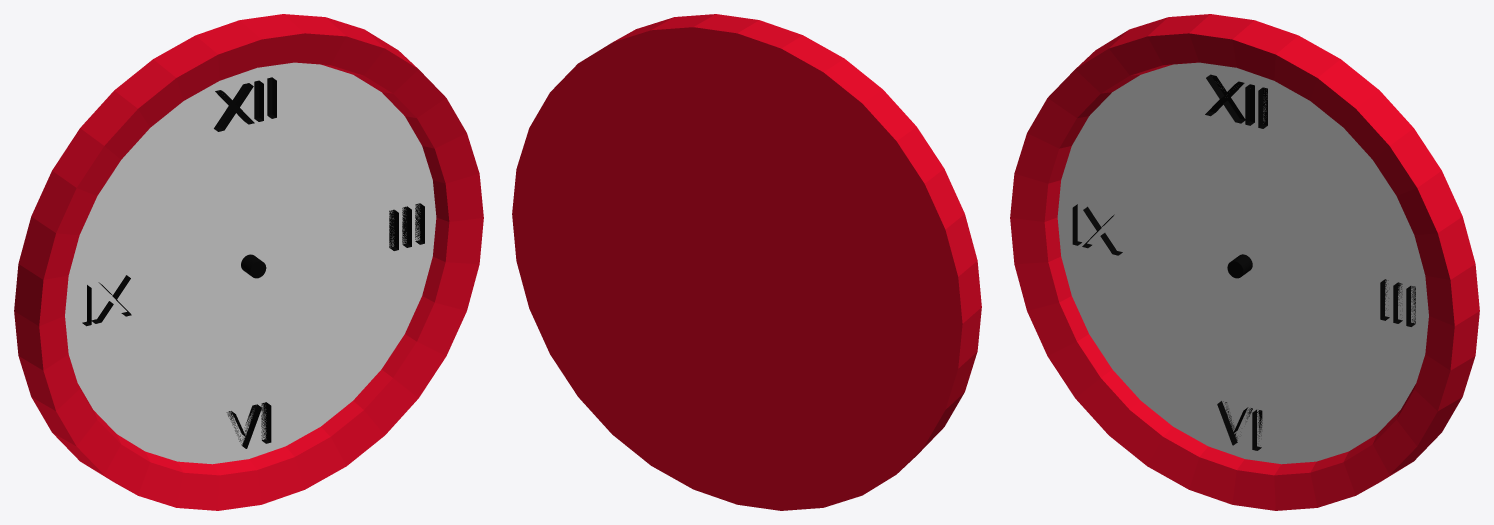
The model's file is zegarek.fbx.
3 views of the same model, side by side, from view 1: azimuth 30°, elevation 25°; view 2: azimuth 150°, elevation 25°; view 3: azimuth 330°, elevation 25° (orthographic).
Parts seen in each view (by area): view 1: zegar; view 2: zegar; view 3: zegar.
Part boxes in pixels (x1,y1,x2,y2): zegar: (14, 14, 483, 510); zegar: (512, 14, 981, 510); zegar: (1010, 14, 1479, 510).
Bounding box in the file's own units: 868 × 868 × 74.23.
